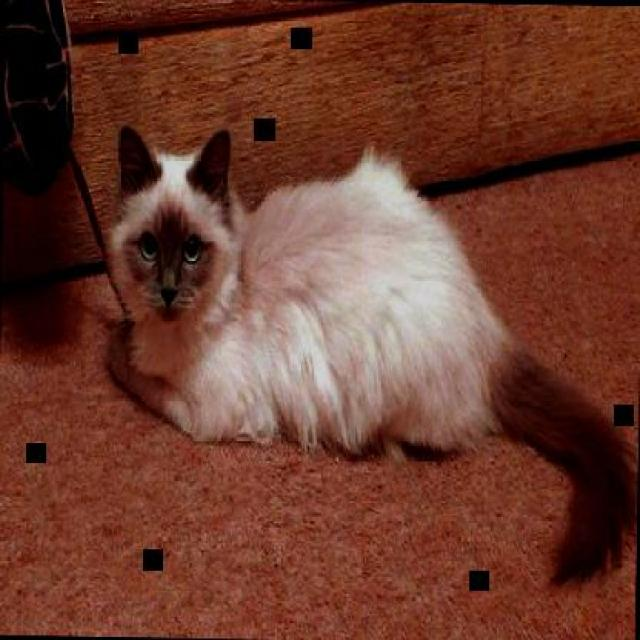cat: (100, 120, 638, 592)
